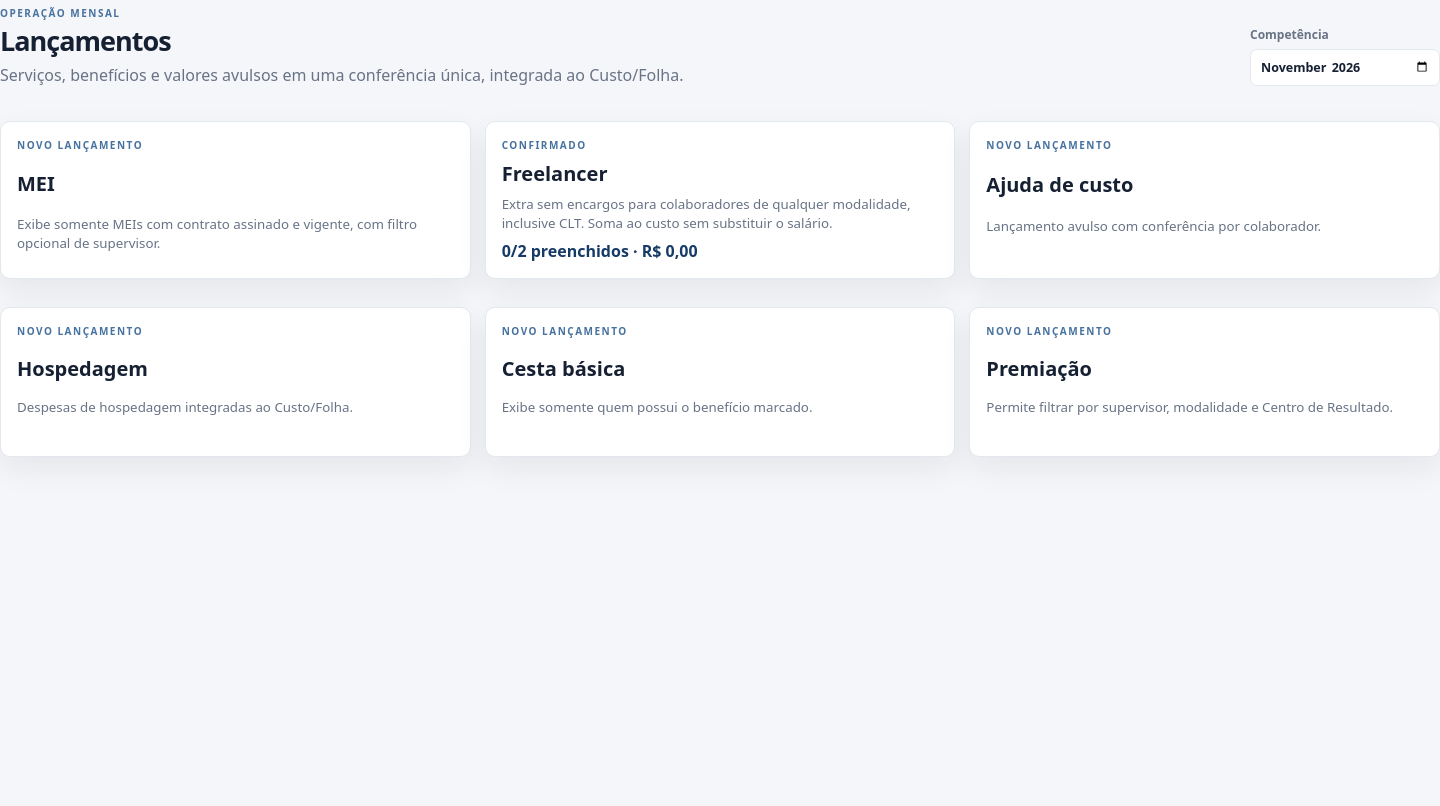
it: edição de lançamentos › bloqueia os campos quando o mês está fechado
This screenshot has width=1440, height=806.
Click the button with class "launch-kind-card" that starts with "Confirmado" at (720, 200), box [485,121,955,279]
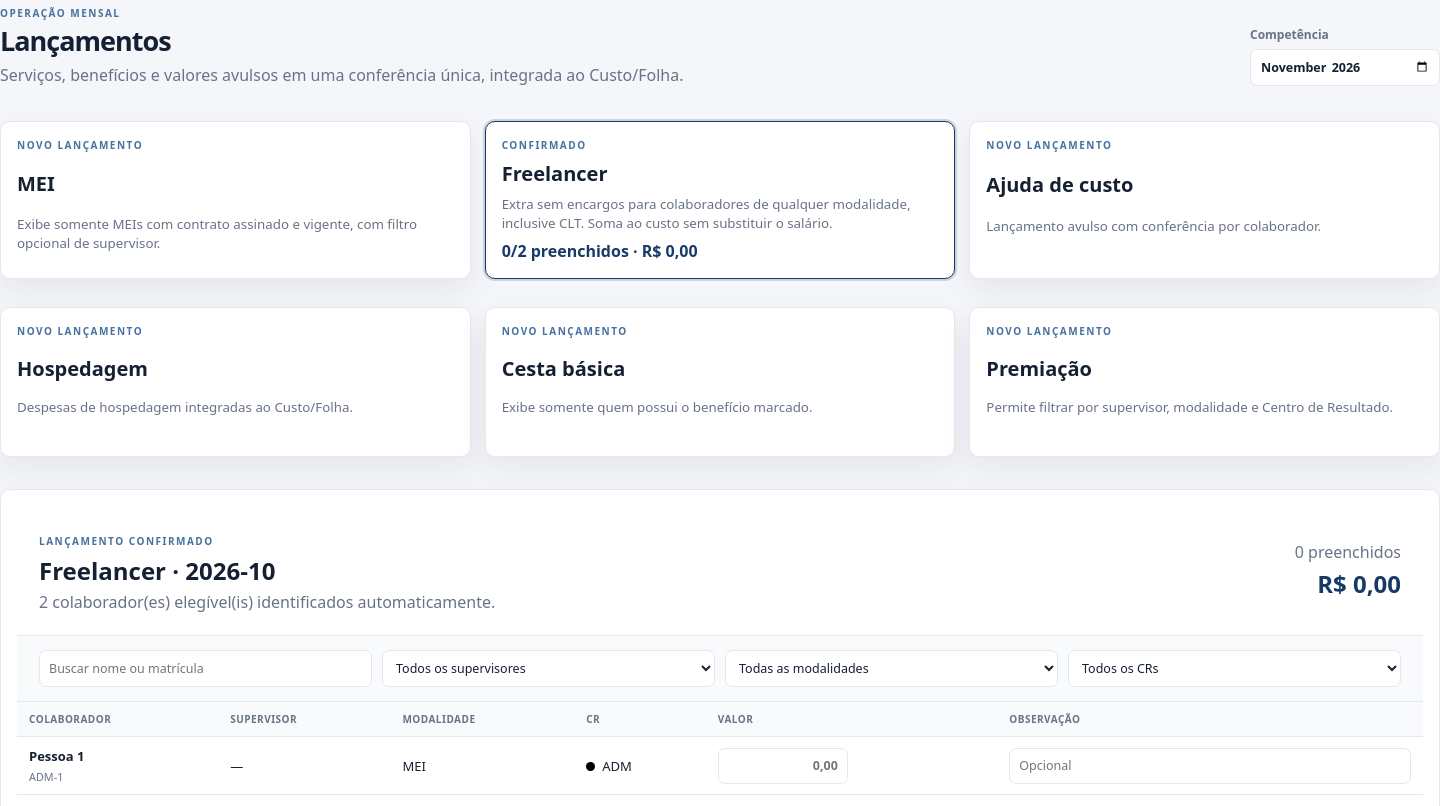
Check: the field named "Valor de Pessoa 1" is disabled, box [718,748,848,784]
